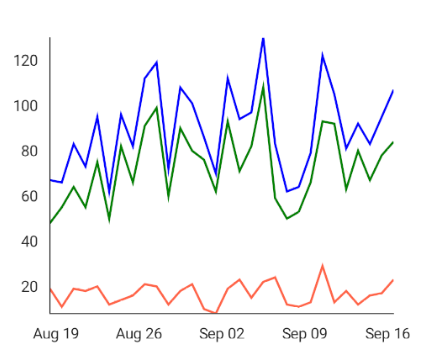S1_AxisNotZero: (1, 31, 427, 348)
